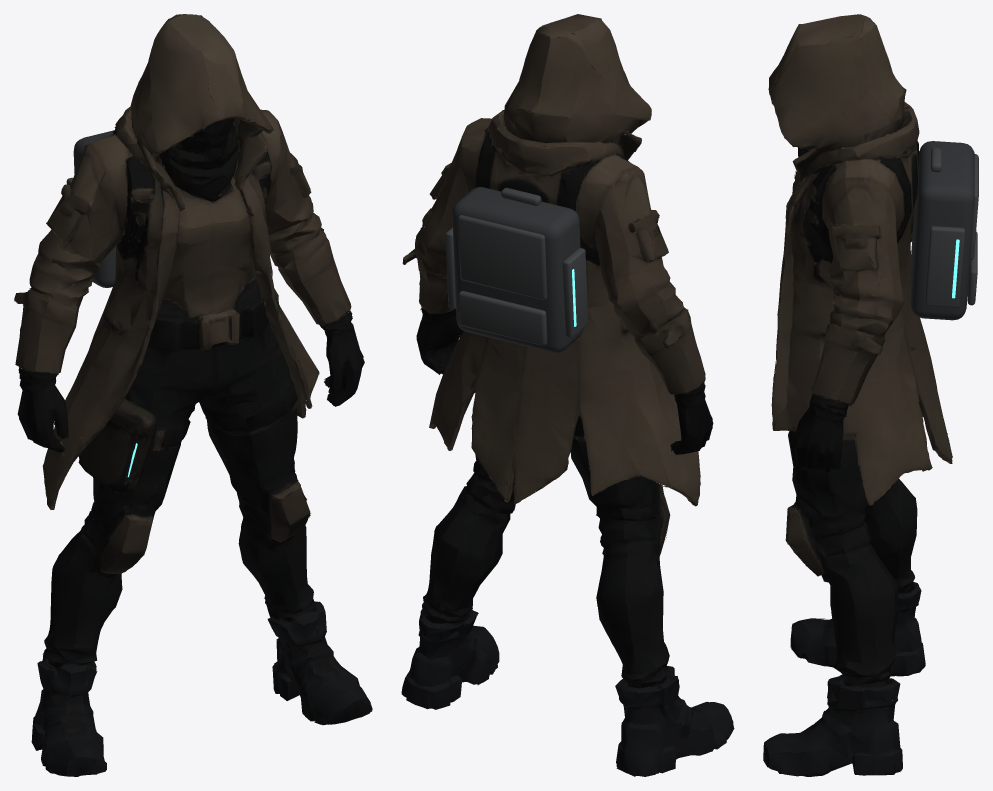
The model's file is OP01_Mobile.glb.
3 renders of one model, left to right at view 1: azimuth 30°, elevation 25°; view 2: azimuth 150°, elevation 25°; view 3: azimuth 270°, elevation 25°, orthographic. The views are drawn at different scales.
Parts seen in each view (by area): view 1: OP01_Body_Mobile, OP01_Coat_Mobile, OP01_Backpack_Mobile; view 2: OP01_Coat_Mobile, OP01_Body_Mobile, OP01_Backpack_Mobile; view 3: OP01_Coat_Mobile, OP01_Body_Mobile, OP01_Backpack_Mobile.
Boxes of the visible parts, x1,y1,x2,y2 form: OP01_Body_Mobile: (17, 31, 372, 776); OP01_Coat_Mobile: (14, 14, 351, 503); OP01_Backpack_Mobile: (66, 130, 115, 287); OP01_Coat_Mobile: (402, 14, 705, 502); OP01_Body_Mobile: (401, 131, 734, 776); OP01_Backpack_Mobile: (445, 187, 588, 353); OP01_Coat_Mobile: (768, 14, 952, 505); OP01_Body_Mobile: (763, 23, 952, 776); OP01_Backpack_Mobile: (910, 141, 978, 320).
Bounding box in the file's own units: 0.8298 × 1.78 × 0.4987.
Materials: 4 (1 with a texture image).
